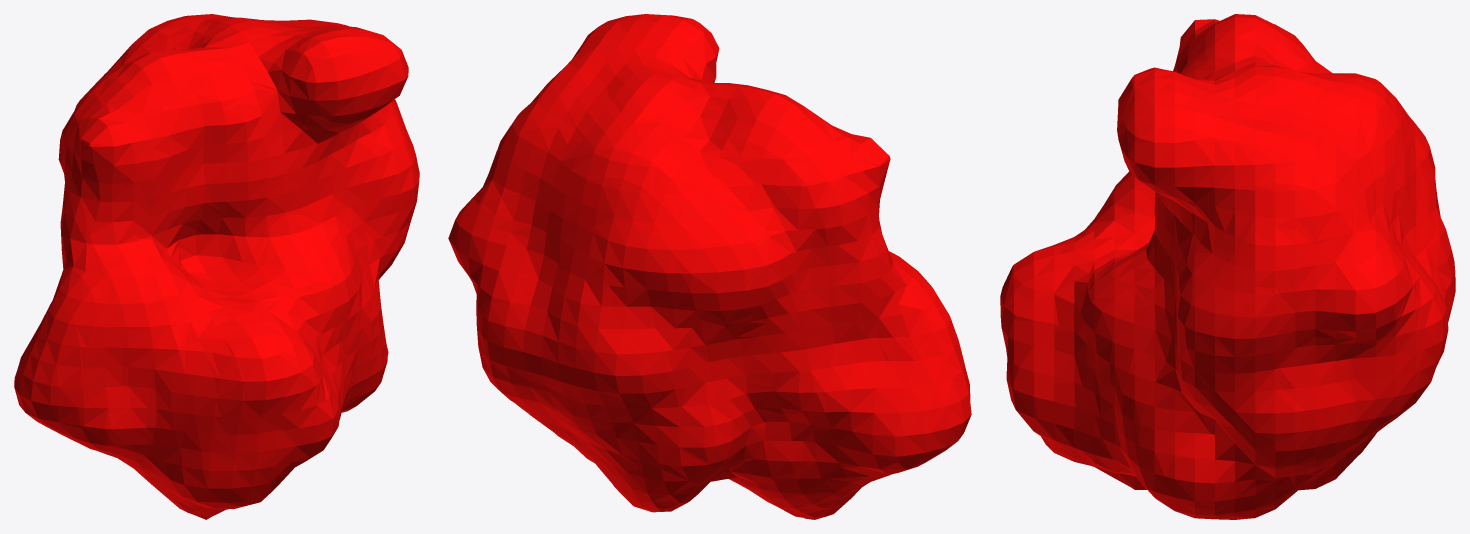
Rendered from ftsE_coarse.dae.
3 renders of one model, left to right at view 1: azimuth 30°, elevation 25°; view 2: azimuth 150°, elevation 25°; view 3: azimuth 270°, elevation 25°, orthographic. The views are drawn at different scales.
Visible parts, largest first — view 1: ftsE; view 2: ftsE; view 3: ftsE.
Boxes of the visible parts, x1=… form: ftsE: x1=14, y1=14, x2=419, y2=519; ftsE: x1=448, y1=14, x2=971, y2=519; ftsE: x1=1000, y1=14, x2=1455, y2=519.
Bounding box in the file's own units: 51.94 × 52.97 × 45.03.
